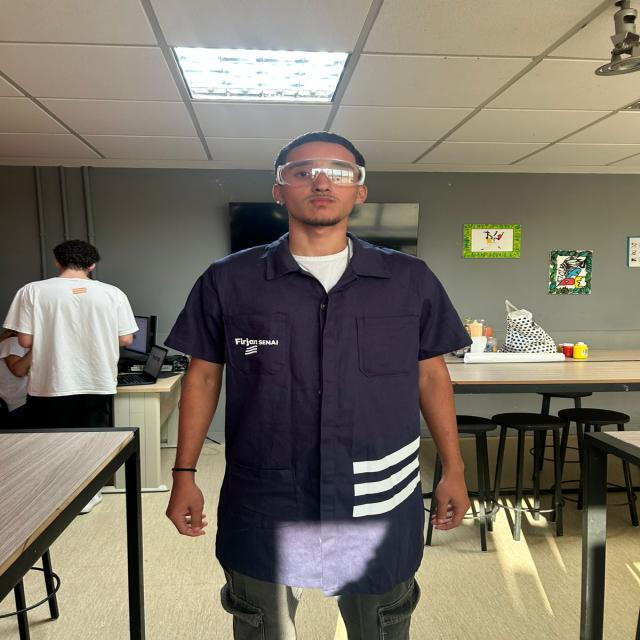oculos-epi: (276, 157, 369, 187)
